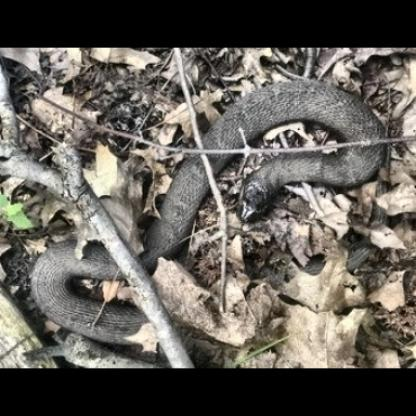Snake: (1, 56, 416, 372), (1, 54, 207, 376)
